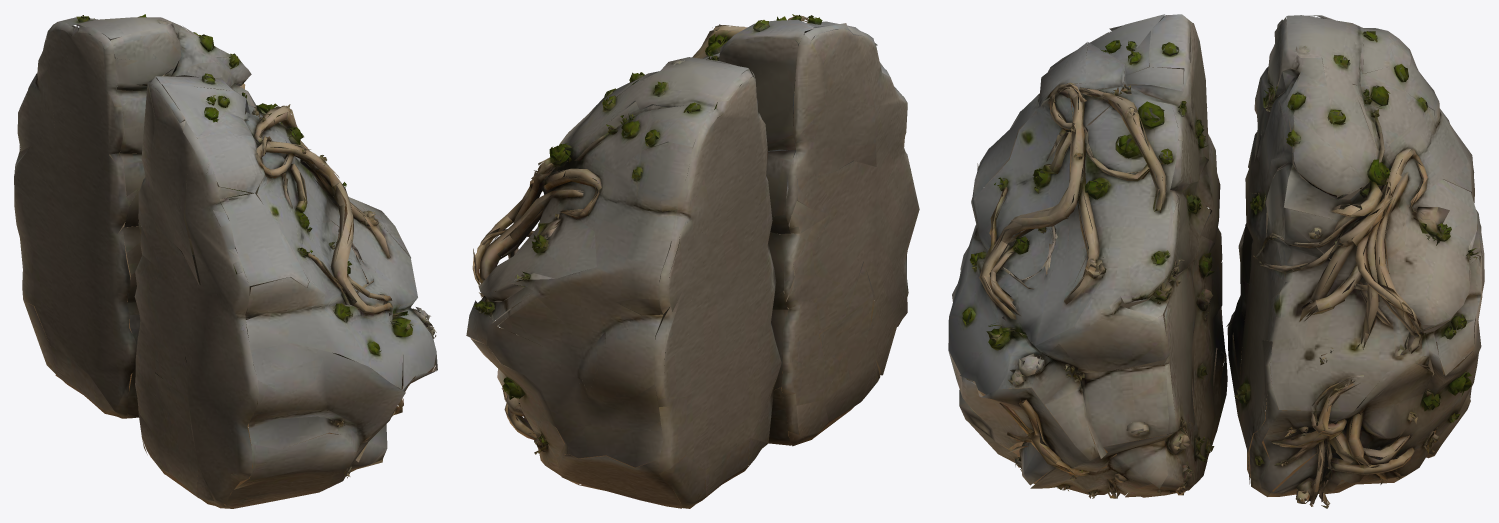
Rendered from jun_boulder_cluster_split_b_LOD1.glb.
3 renders of one model, left to right at view 1: azimuth 30°, elevation 25°; view 2: azimuth 150°, elevation 25°; view 3: azimuth 270°, elevation 25°, orthographic. The views are drawn at different scales.
Visible parts, largest first — view 1: tripo_node_0cf42a20-0608-4773-b27a-2f9978b49fdc; view 2: tripo_node_0cf42a20-0608-4773-b27a-2f9978b49fdc; view 3: tripo_node_0cf42a20-0608-4773-b27a-2f9978b49fdc.
Part boxes in pixels (bbox=[...]): tripo_node_0cf42a20-0608-4773-b27a-2f9978b49fdc: bbox=[14, 14, 437, 508]; tripo_node_0cf42a20-0608-4773-b27a-2f9978b49fdc: bbox=[466, 14, 919, 508]; tripo_node_0cf42a20-0608-4773-b27a-2f9978b49fdc: bbox=[948, 14, 1484, 508].
Bounding box in the file's own units: 0.5298 × 0.871 × 0.9992.
1 material, 1 textured.
